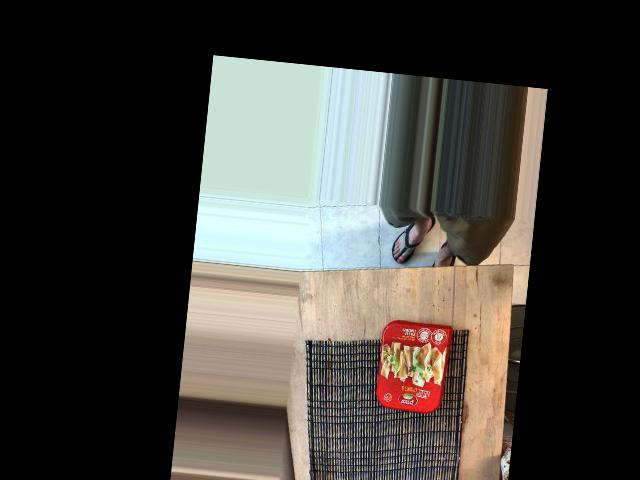cheese: (282, 331, 426, 430)
